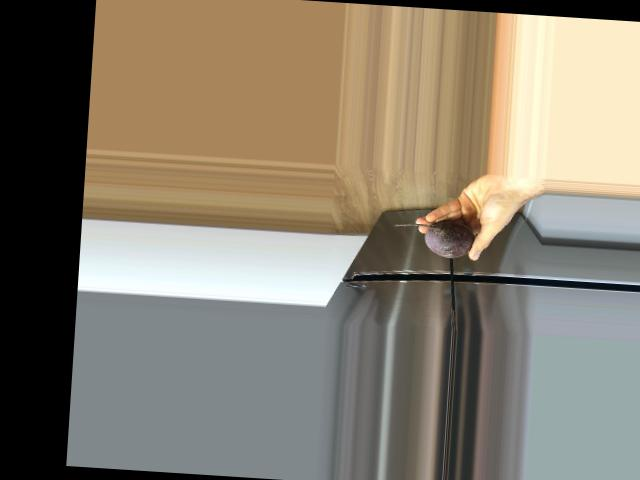beet: (391, 216, 474, 259)
